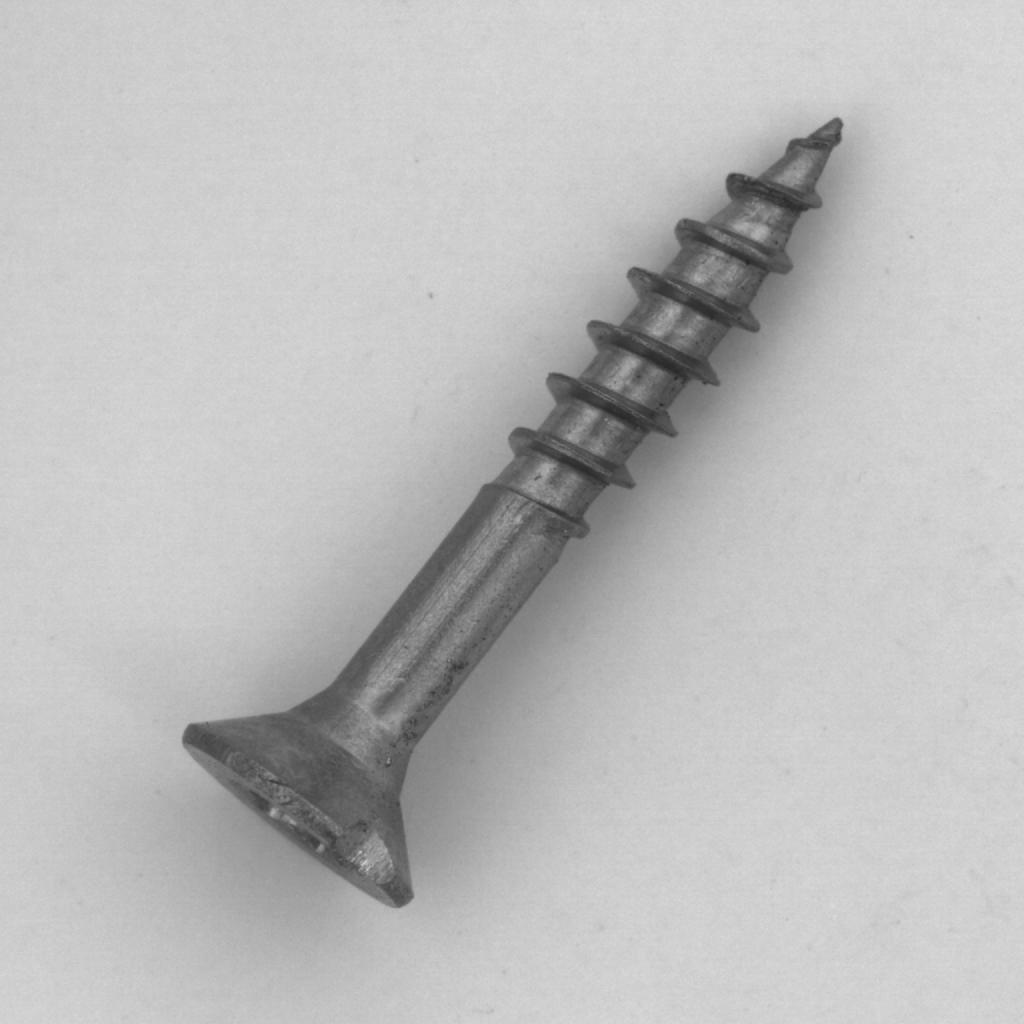bad: (132, 103, 905, 934)
